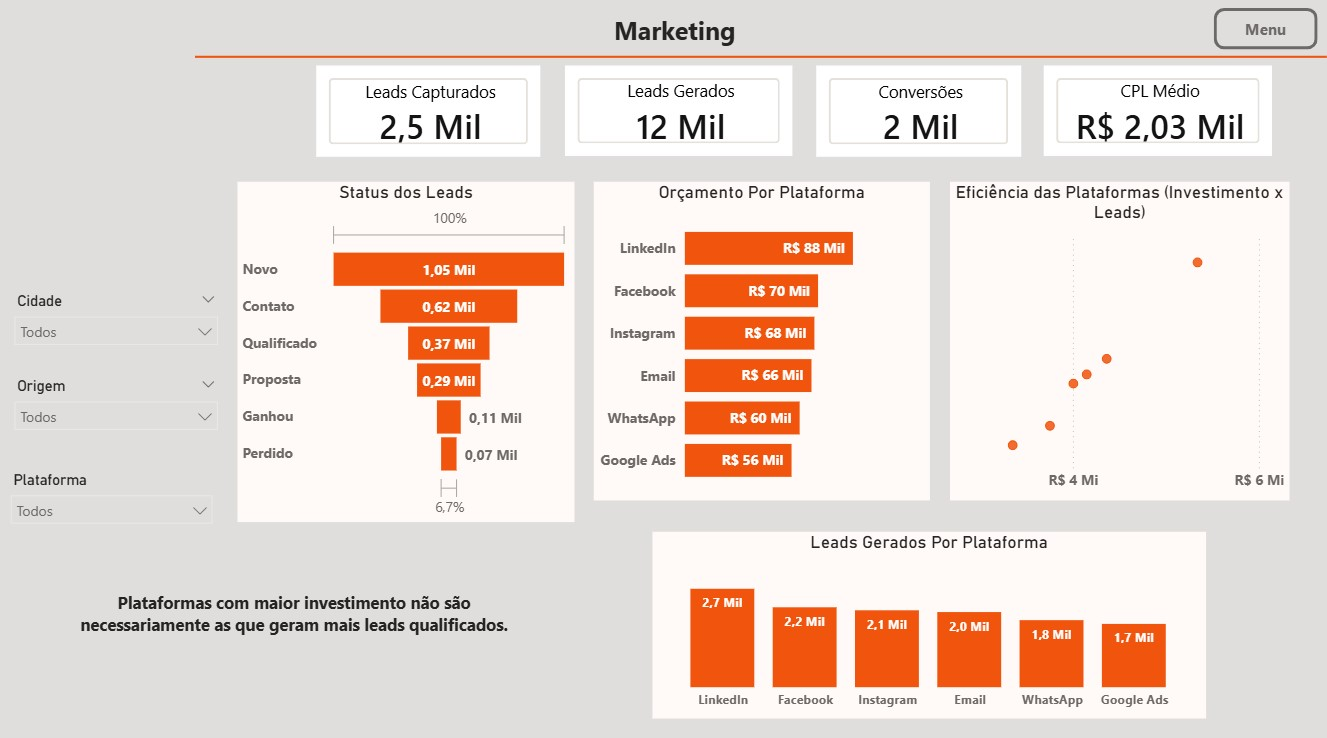

The page's visual inventory and layout, read from the dashboard file:
{"tool":"powerbi","page":{"name":"Marketing & Funil ","canvas":[1280,720],"ordinal":4},"visuals":[{"type":"cardVisual","fields":{"Data":["Count(leads.lead_id)"]},"box":[299.7,60.4,226.1,98.8],"z":1000},{"type":"cardVisual","fields":{"Data":["Avg(marketing.custo_por_lead)"]},"box":[1001.2,60.4,230.5,97.7],"z":2000},{"type":"cardVisual","fields":{"Data":["Sum(marketing.leads_gerados)"]},"box":[540.1,60.4,229.4,97.7],"z":3000},{"type":"funnel","title":"Status dos Leads","fields":{"Category":["leads.status"],"Y":["Count(leads.lead_id)"]},"box":[229,176.7,325,327.8],"z":4000},{"type":"cardVisual","fields":{"Data":["Sum(marketing.conversoes)"]},"box":[781.6,60.4,207.5,98.8],"z":5000},{"type":"columnChart","title":"Leads Gerados Por Plataforma","fields":{"Category":["marketing.plataforma"],"Y":["Sum(marketing.leads_gerados)"]},"box":[629,514.9,533.5,180],"z":6000},{"type":"barChart","title":"Orçamento Por Plataforma","fields":{"Category":["marketing.plataforma"],"Y":["Sum(marketing.custo_por_lead)"]},"box":[572.1,176.7,324,306.9],"z":7000},{"type":"slicer","fields":{"Values":["empreendimentos.cidade"]},"box":[3.3,278.8,216.3,119.7],"z":9000},{"type":"slicer","fields":{"Values":["leads.origem"]},"box":[3.3,360.1,216.3,76.8],"z":10000},{"type":"slicer","fields":{"Values":["marketing.plataforma"]},"box":[0,450.1,215.2,88.9],"z":11000},{"type":"scatterChart","title":"Eficiência das Plataformas (Investimento x Leads)","fields":{"X":["Sum(marketing.orcamento)"],"Y":["Sum(marketing.leads_gerados)"],"Category":["marketing.plataforma"]},"box":[915.1,176.7,326.9,306.9],"z":12000},{"type":"textbox","box":[71.3,566.4,424.8,77.9],"z":13000},{"type":"shape","box":[188.2,43.7,1091.8,26.6],"z":14000},{"type":"actionButton","box":[1169.6,9.8,100.2,39.9],"z":15000},{"type":"textbox","box":[586.3,9.5,136.8,43.7],"z":16000}]}

Visuals, with their boxes in screenshot pixels (x1, y1, x2, y2), scaled from the page's 1280x720 canvas onto the 1327x738 screenshot:
cardVisual - Count(leads.lead_id): crop(311, 62, 545, 163)
cardVisual - Avg(marketing.custo_por_lead): crop(1038, 62, 1277, 162)
cardVisual - Sum(marketing.leads_gerados): crop(560, 62, 798, 162)
"Status dos Leads" funnel: crop(237, 181, 574, 517)
cardVisual - Sum(marketing.conversoes): crop(810, 62, 1025, 163)
"Leads Gerados Por Plataforma" columnChart: crop(652, 528, 1205, 712)
"Orçamento Por Plataforma" barChart: crop(593, 181, 929, 496)
slicer - empreendimentos.cidade: crop(3, 286, 228, 408)
slicer - leads.origem: crop(3, 369, 228, 448)
slicer - marketing.plataforma: crop(0, 461, 223, 552)
"Eficiência das Plataformas (Investimento x Leads)" scatterChart: crop(949, 181, 1288, 496)
textbox: crop(74, 581, 514, 660)
shape: crop(195, 45, 1326, 72)
actionButton: crop(1213, 10, 1316, 51)
textbox: crop(608, 10, 750, 55)
